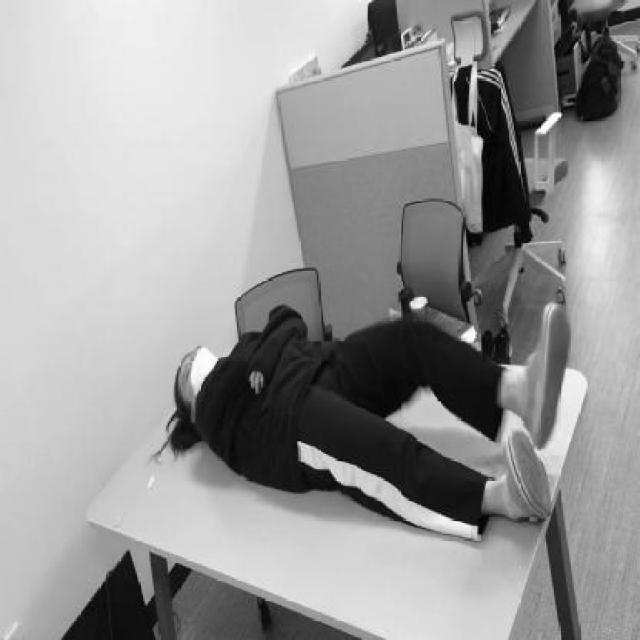person: (167, 286, 546, 542)
